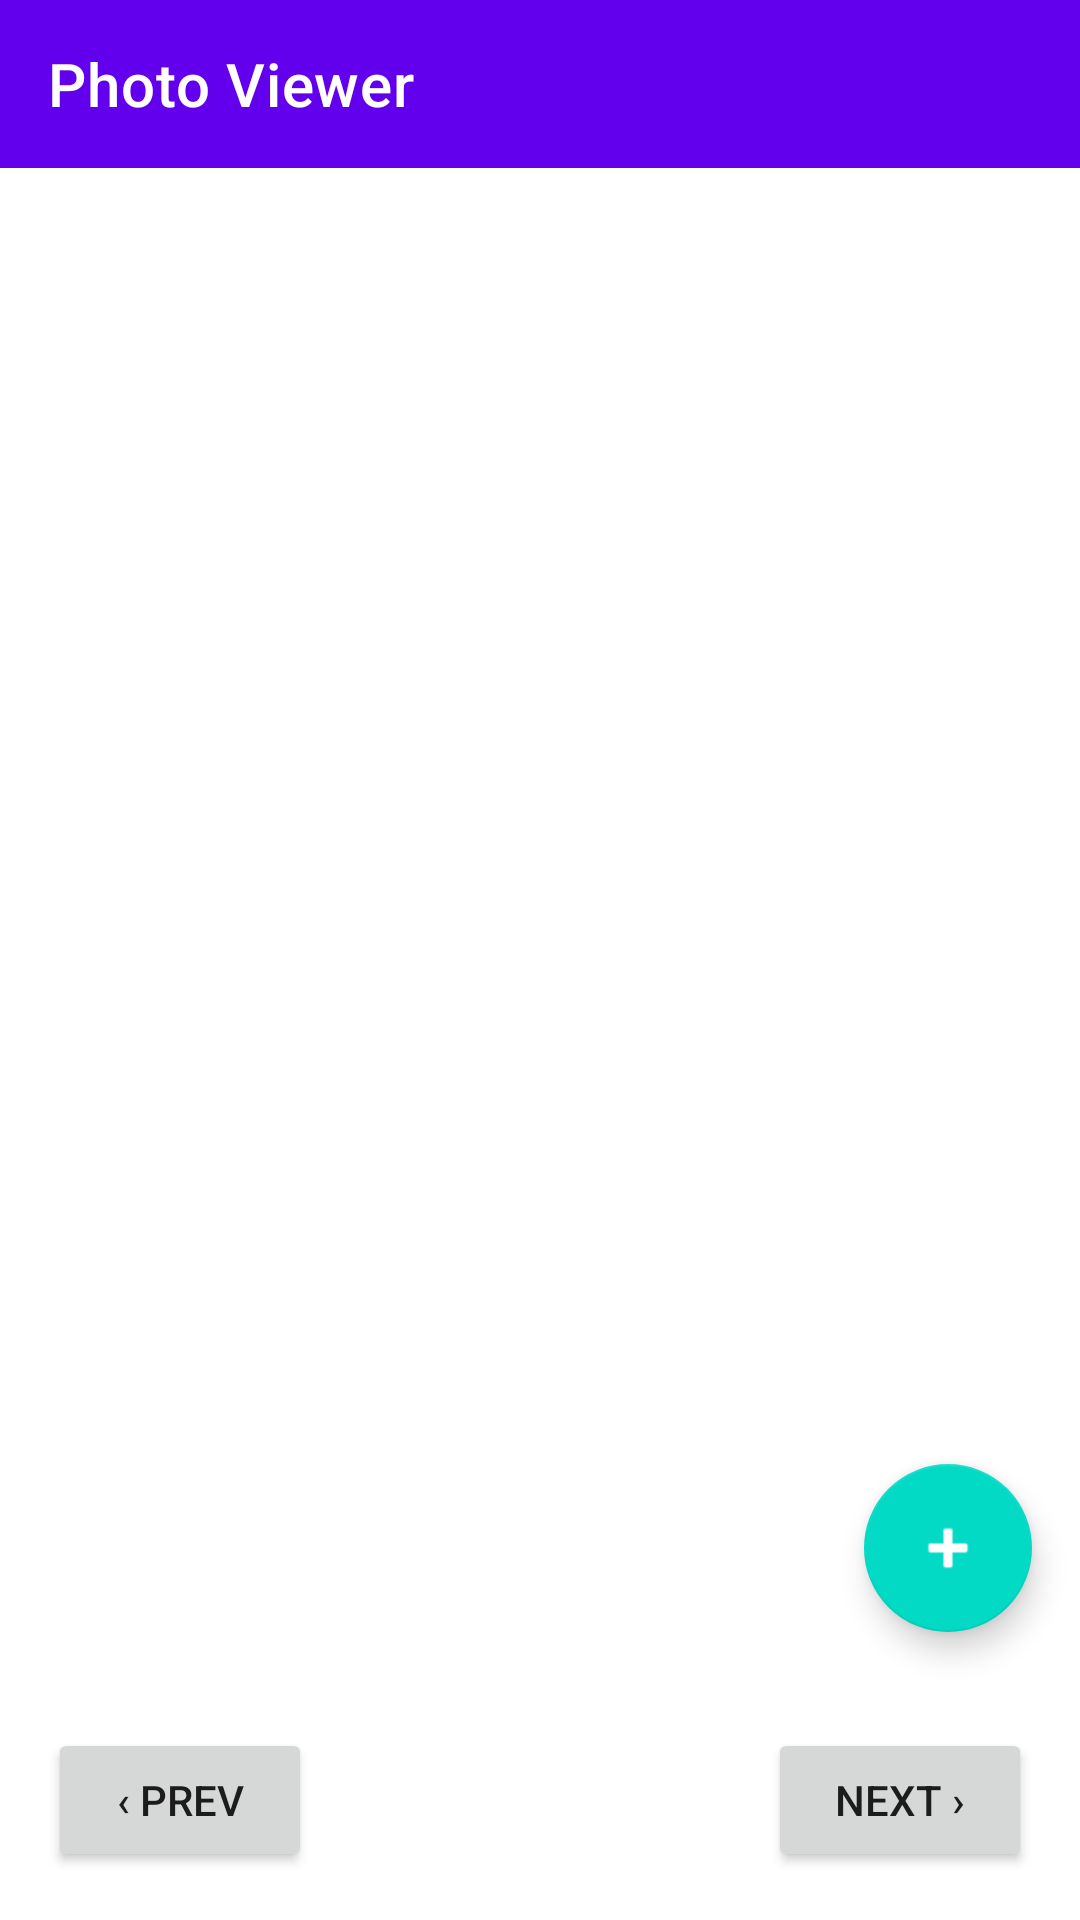

Locate icon controls on the screen. Image size 1080w x 1920h, boxes as (x1, y1, x2, y2).
Add tag: (864, 1464, 1032, 1632)
